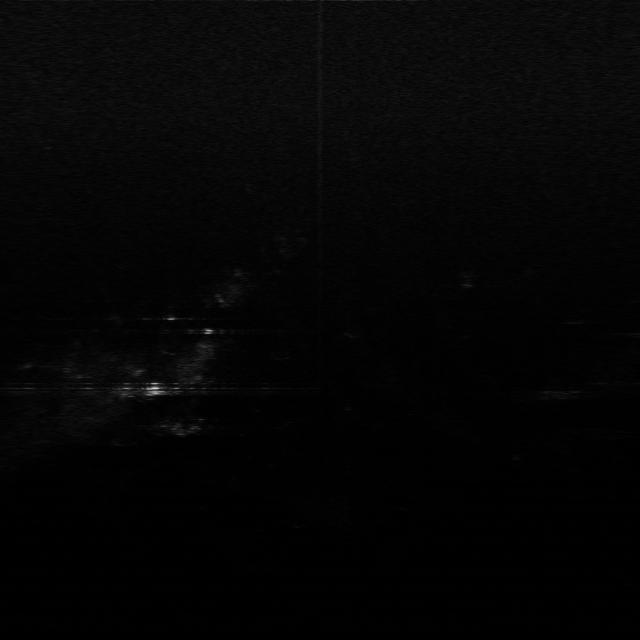rov: (142, 378, 169, 400)
